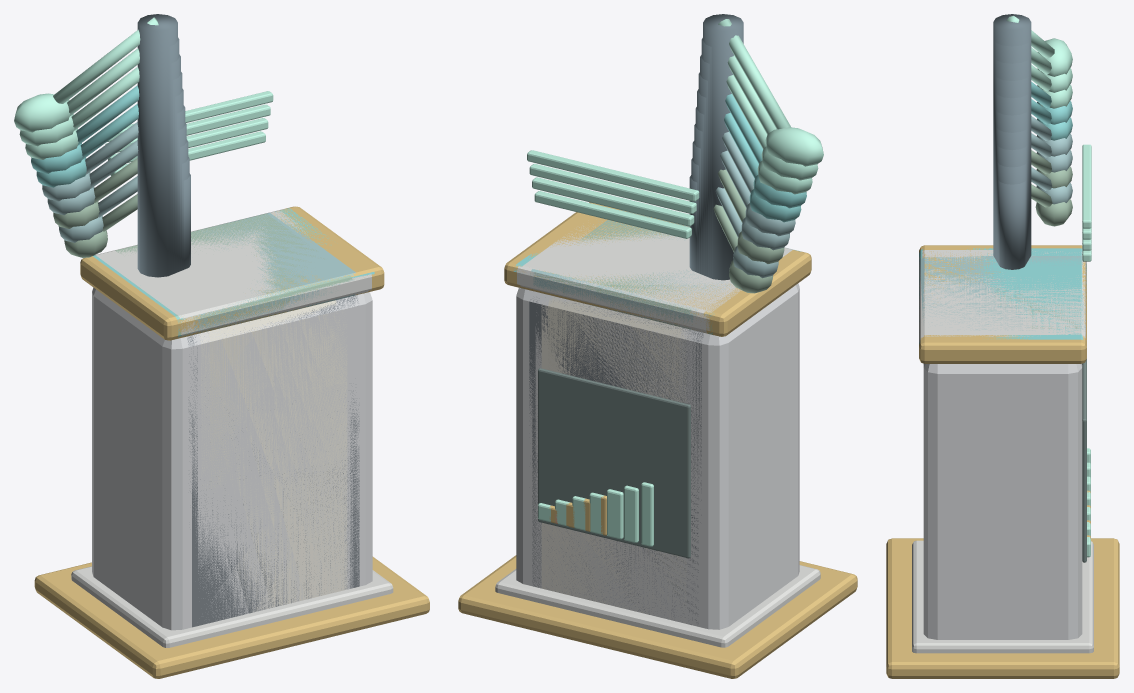
The model's file is Gear19.fbx.
The picture shows the model from 3 angles, left to right: view 1: azimuth 30°, elevation 25°; view 2: azimuth 150°, elevation 25°; view 3: azimuth 270°, elevation 25°; orthographic projection. The views are drawn at different scales.
Visible parts, largest first — view 1: Gear19_V10_Platinum, Gear19_V5_Platinum, Gear19_V4_Linen, Gear19_V10_Gold, Gear19_V3_Linen, Gear19_V10_Glass, Gear19_V9_Gold, Gear19_V5_Chrome, Gear19_V7_Graphite, Gear19_V2_Blue, Gear19_V4_Chrome, Gear19_V1_Sage (+22 smaller); view 2: Gear19_V10_Platinum, Gear19_V10_Gold, Gear19_V6_Chrome, Gear19_V10_Ink, Gear19_V8_Graphite, Gear19_V3_Linen, Gear19_V8_Ink, Gear19_V10_Glow, Gear19_V4_Ink, Gear19_V6_Platinum, Gear19_V8_Glow, Gear19_V10_Glass (+30 smaller); view 3: Gear19_V10_Platinum, Gear19_V10_Gold, Gear19_V9_Gold, Gear19_V5_Chrome, Gear19_V8_Aqua, Gear19_V2_Blue, Gear19_V10_Chrome, Gear19_V4_Chrome, Gear19_V1_Glass, Gear19_V10_Glow, Gear19_V10_Glass, Gear19_V8_Chrome (+21 smaller).
Part boxes in pixels (<box>): Gear19_V10_Platinum: <box>92,287,372,630</box>; Gear19_V5_Platinum: <box>196,312,350,619</box>; Gear19_V4_Linen: <box>199,310,347,609</box>; Gear19_V10_Gold: <box>34,206,429,678</box>; Gear19_V3_Linen: <box>204,316,344,612</box>; Gear19_V10_Glass: <box>137,14,177,277</box>; Gear19_V9_Gold: <box>42,207,423,677</box>; Gear19_V5_Chrome: <box>102,210,375,607</box>; Gear19_V7_Graphite: <box>190,296,356,627</box>; Gear19_V2_Blue: <box>58,176,354,332</box>; Gear19_V4_Chrome: <box>154,211,372,643</box>; Gear19_V1_Sage: <box>64,194,351,332</box>; Gear19_V10_Platinum: <box>516,283,799,629</box>; Gear19_V10_Gold: <box>458,202,857,678</box>; Gear19_V6_Chrome: <box>510,224,793,609</box>; Gear19_V10_Ink: <box>538,368,690,558</box>; Gear19_V8_Graphite: <box>529,298,703,522</box>; Gear19_V3_Linen: <box>545,314,687,621</box>; Gear19_V8_Ink: <box>543,372,683,538</box>; Gear19_V10_Glow: <box>527,19,823,545</box>; Gear19_V4_Ink: <box>589,387,674,554</box>; Gear19_V6_Platinum: <box>535,294,696,586</box>; Gear19_V8_Glow: <box>532,75,812,546</box>; Gear19_V10_Glass: <box>703,14,743,280</box>; Gear19_V10_Platinum: <box>923,364,1082,639</box>; Gear19_V10_Gold: <box>886,245,1119,678</box>; Gear19_V9_Gold: <box>886,247,1119,665</box>; Gear19_V5_Chrome: <box>913,254,1089,636</box>; Gear19_V8_Aqua: <box>919,248,1083,344</box>; Gear19_V2_Blue: <box>919,167,1085,331</box>; Gear19_V10_Chrome: <box>912,540,1093,653</box>; Gear19_V4_Chrome: <box>913,261,1089,635</box>; Gear19_V1_Glass: <box>998,180,1026,269</box>; Gear19_V10_Glow: <box>1006,16,1091,557</box>; Gear19_V10_Glass: <box>993,14,1031,255</box>; Gear19_V8_Chrome: <box>912,544,1093,643</box>.
Bounding box in the file's own units: 77.36 × 134 × 50.
